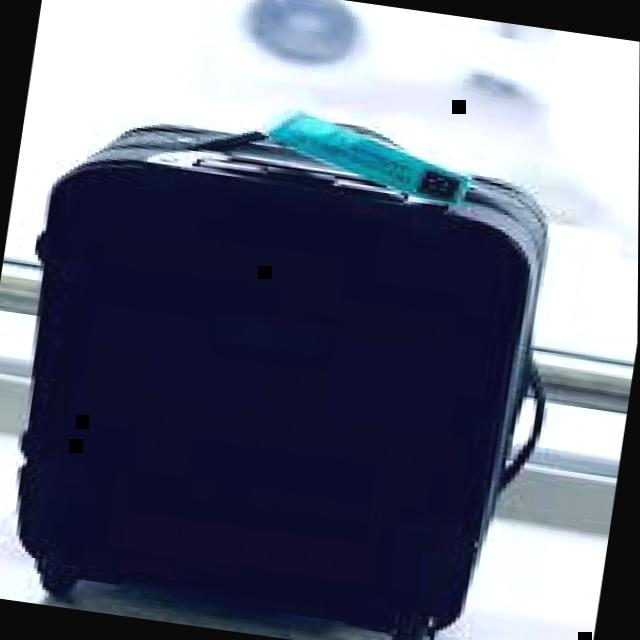luggage: (0, 76, 590, 640)
